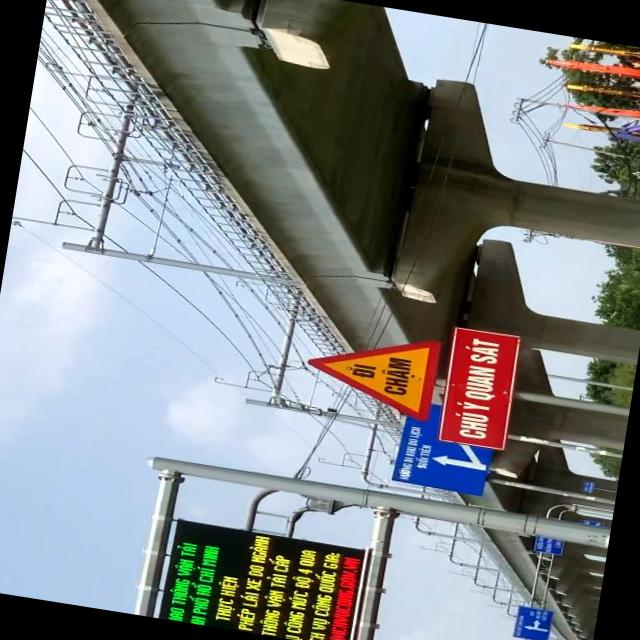W-245a: (300, 319, 442, 422)
